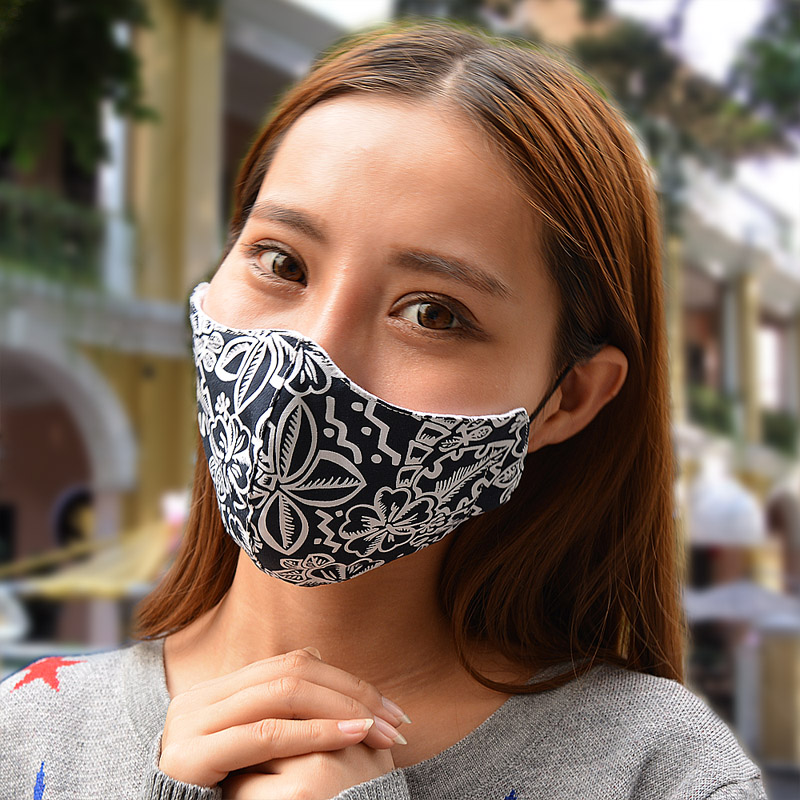face_mask: (206, 92, 551, 575)
